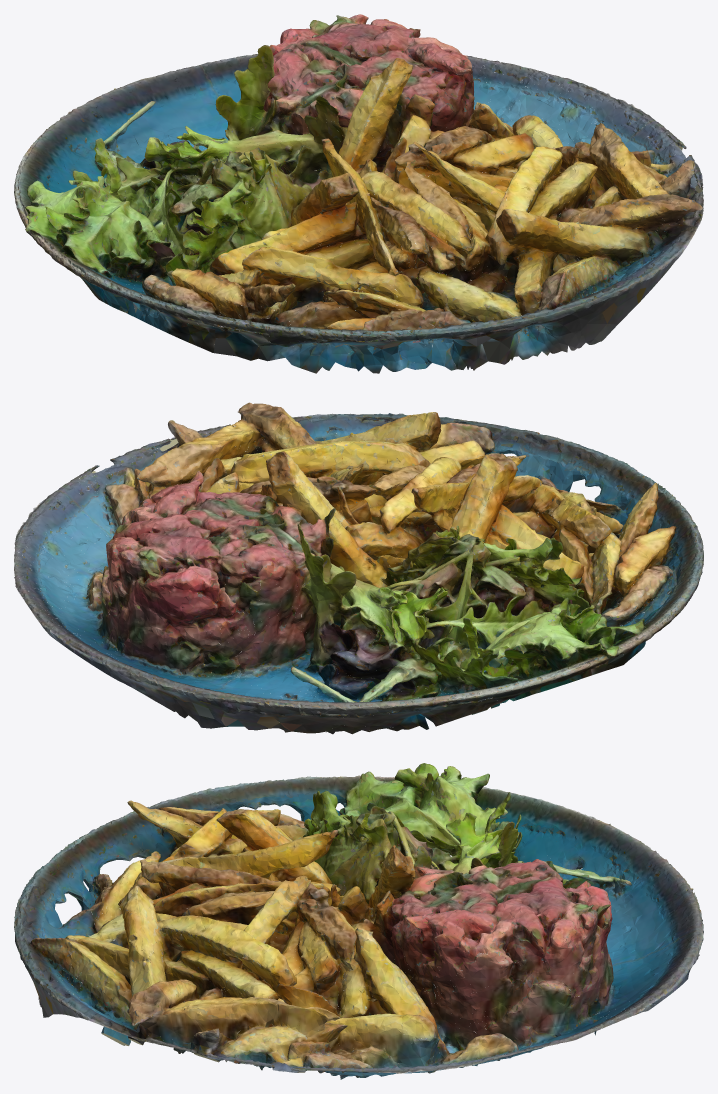
Rendered from steak-tartare.glb.
3 views of the same model, one above another, from view 1: azimuth 30°, elevation 25°; view 2: azimuth 150°, elevation 25°; view 3: azimuth 270°, elevation 25° (orthographic).
Parts seen in each view (by area): view 1: Object_2, Object_6, Object_4, Object_7, Object_3, Object_5, Object_8; view 2: Object_7, Object_4, Object_6, Object_5, Object_3, Object_2, Object_8; view 3: Object_2, Object_3, Object_6, Object_7, Object_4, Object_5, Object_8.
Boxes of the visible parts, x1,y1,x2,y2 form: Object_2: [79, 55, 703, 370]; Object_6: [27, 14, 627, 356]; Object_4: [14, 45, 683, 352]; Object_7: [17, 14, 703, 352]; Object_3: [191, 50, 669, 279]; Object_5: [14, 101, 375, 345]; Object_8: [217, 194, 691, 373]; Object_7: [14, 403, 591, 734]; Object_4: [138, 413, 703, 708]; Object_6: [106, 444, 633, 643]; Object_5: [277, 456, 681, 733]; Object_3: [14, 419, 479, 670]; Object_2: [14, 402, 703, 624]; Object_8: [249, 404, 700, 547]; Object_2: [14, 785, 639, 1072]; Object_3: [158, 811, 655, 1077]; Object_6: [148, 763, 607, 1051]; Object_7: [38, 813, 703, 1079]; Object_4: [146, 776, 694, 1046]; Object_5: [161, 763, 657, 898]; Object_8: [37, 805, 160, 1032].
Bounding box in the file's own units: 0.1784 × 0.0462 × 0.1795.
1 material, 1 textured.
